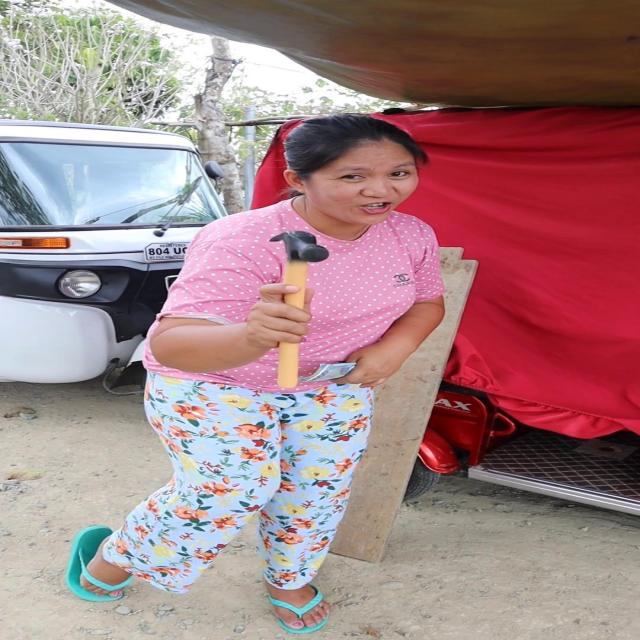hammer: (268, 231, 330, 389)
